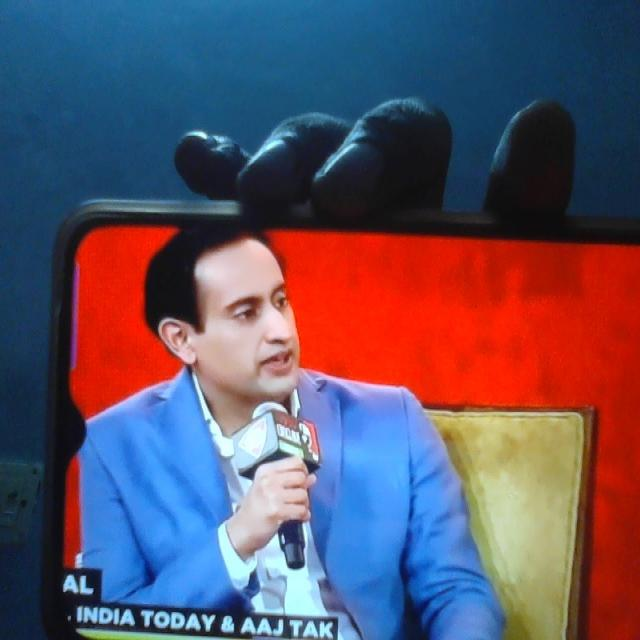fake: (185, 195, 301, 413)
